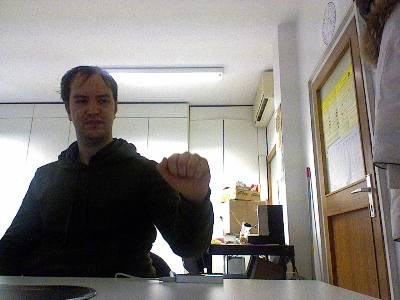石头: (153, 149, 211, 200)
